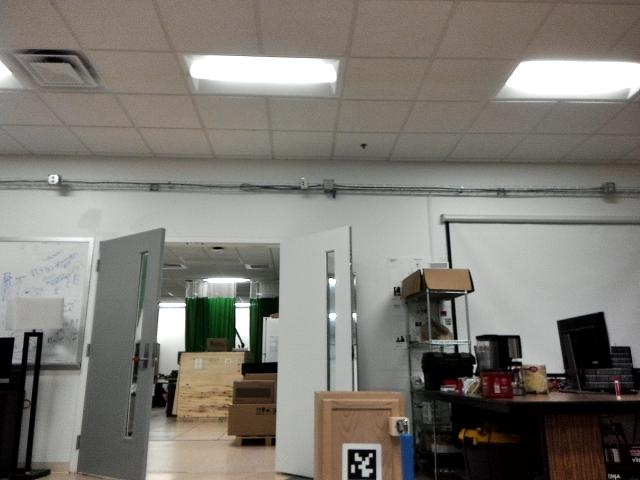noodle_handle: (397, 426, 417, 480)
